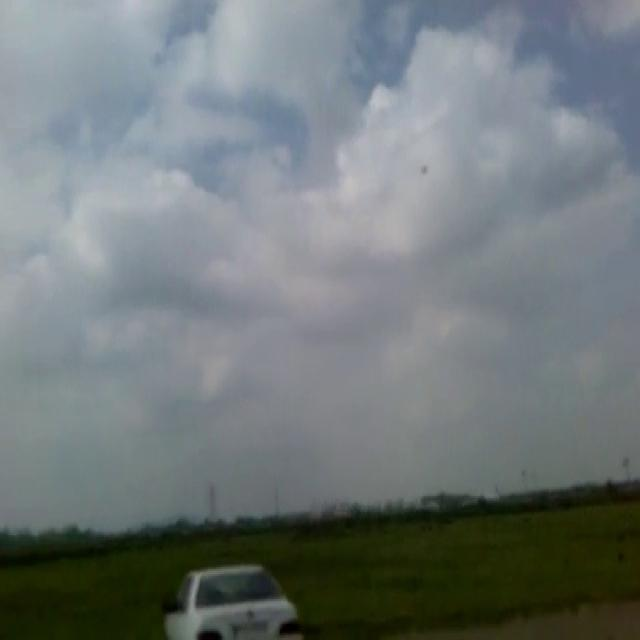drone: (418, 158, 429, 176)
